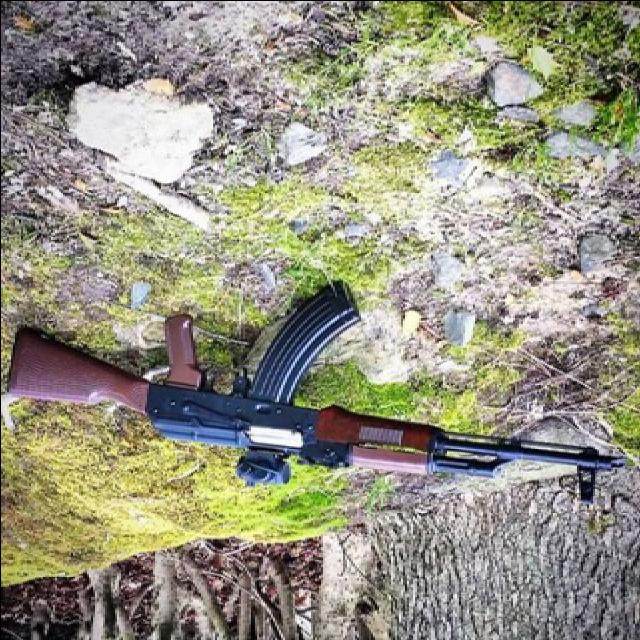rifle: (1, 277, 619, 510)
